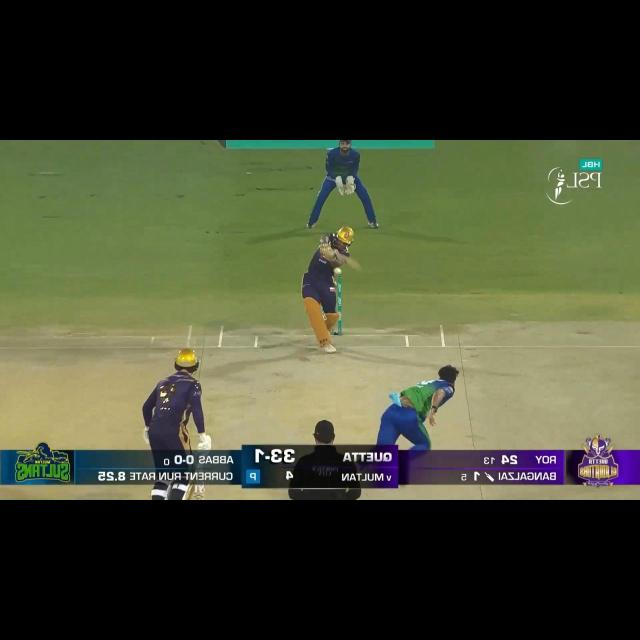bat: (323, 250, 362, 272), (190, 485, 206, 497)
toe: (190, 484, 206, 499), (351, 259, 362, 272)
